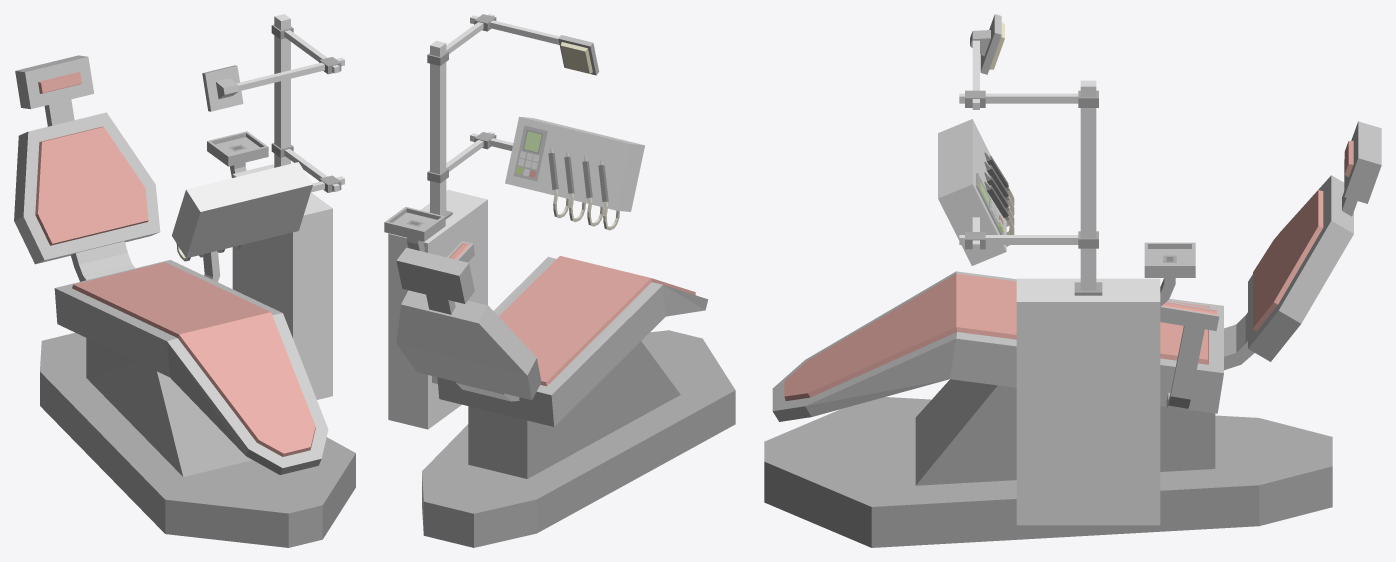
The model's file is dentists chair.fbx.
3 views of the same model, side by side, from view 1: azimuth 30°, elevation 25°; view 2: azimuth 150°, elevation 25°; view 3: azimuth 270°, elevation 25° (orthographic). The views are drawn at different scales.
Parts seen in each view (by area): view 1: Cube; view 2: Cube; view 3: Cube.
Boxes of the visible parts, left/top/right/bottom form: Cube: left=14, top=14, right=355, bottom=547; Cube: left=384, top=14, right=735, bottom=547; Cube: left=764, top=14, right=1381, bottom=547.
Size of the model in its own units: 41.28 by 68.99 by 81.05.
